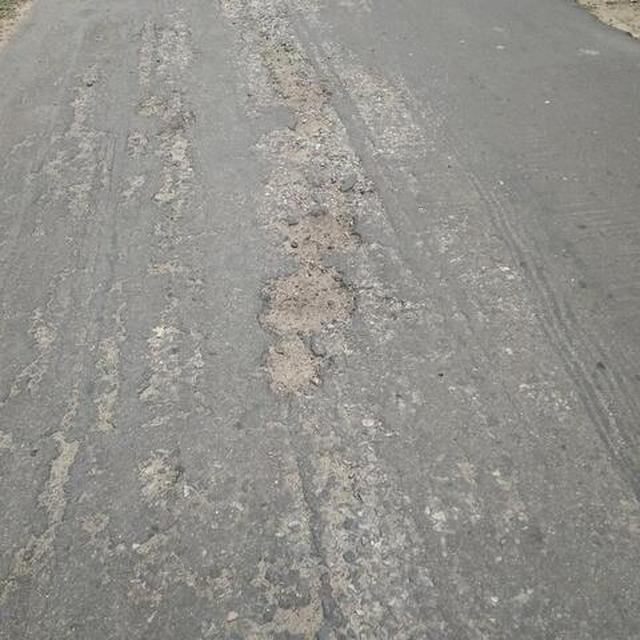pothole: (226, 36, 382, 387)
